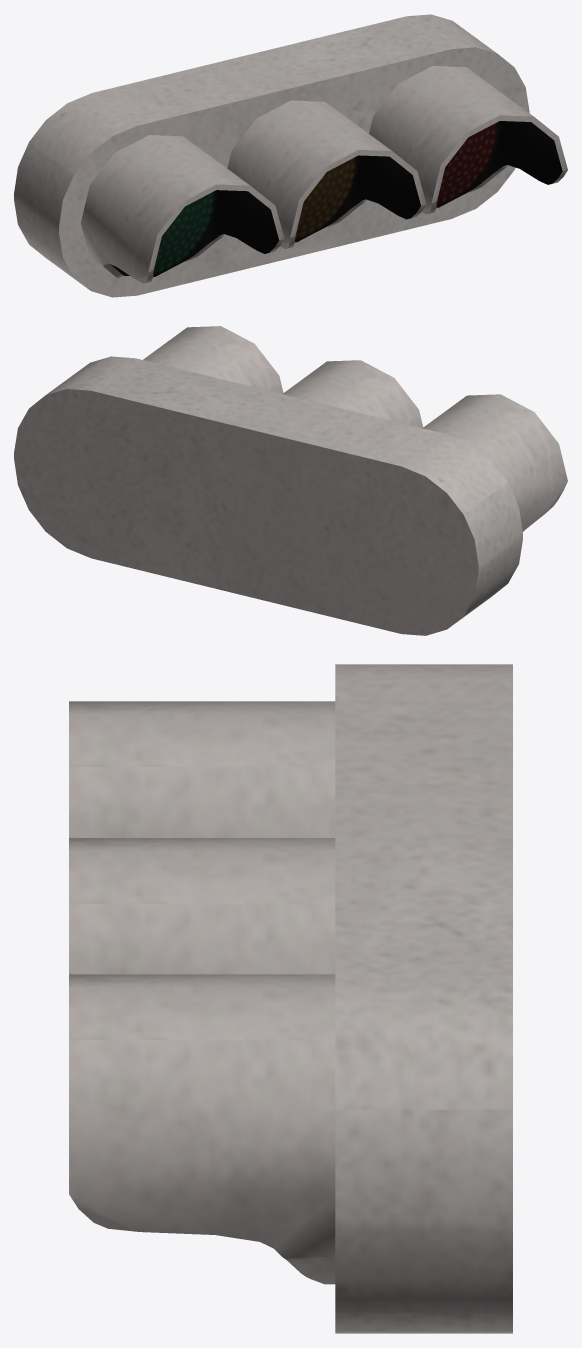
File: signal01.fbx
3 views of the same model, one above another, from view 1: azimuth 30°, elevation 25°; view 2: azimuth 150°, elevation 25°; view 3: azimuth 270°, elevation 25° (orthographic). The views are drawn at different scales.
Parts seen in each view (by area): view 1: Empty_Mesh; view 2: Empty_Mesh; view 3: Empty_Mesh.
Boxes of the visible parts, x1,y1,x2,y2 form: Empty_Mesh: (14, 14, 567, 297); Empty_Mesh: (14, 326, 567, 635); Empty_Mesh: (69, 664, 512, 1333).
Size of the model in its own units: 1.18 by 0.4063 by 0.4875.
